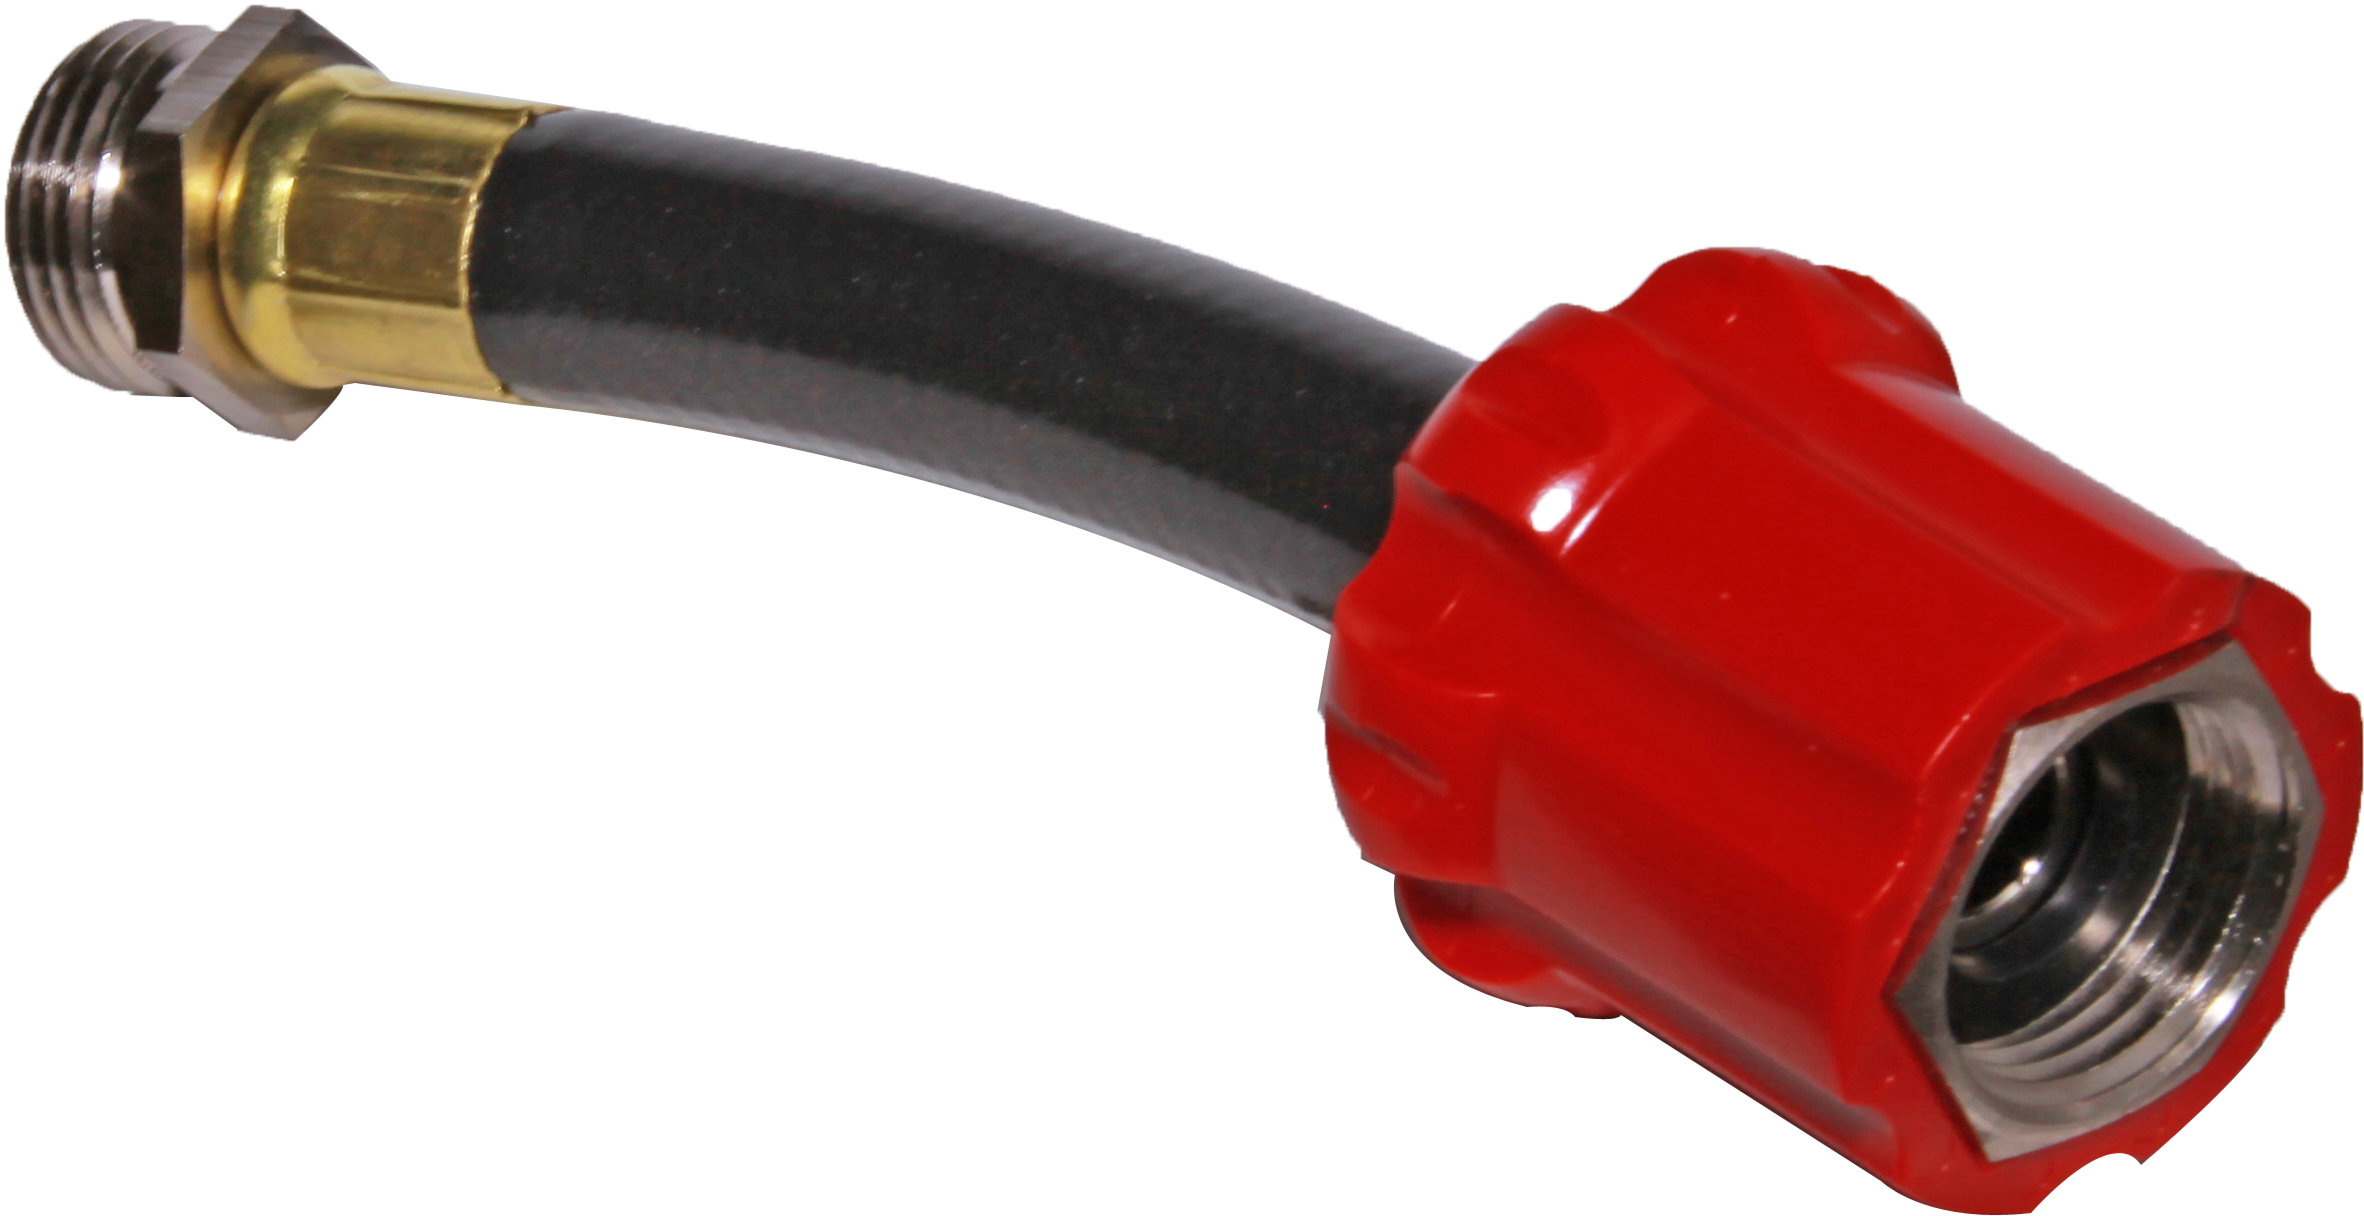Nonrec_Tangler: (2, 2, 2324, 1185)
